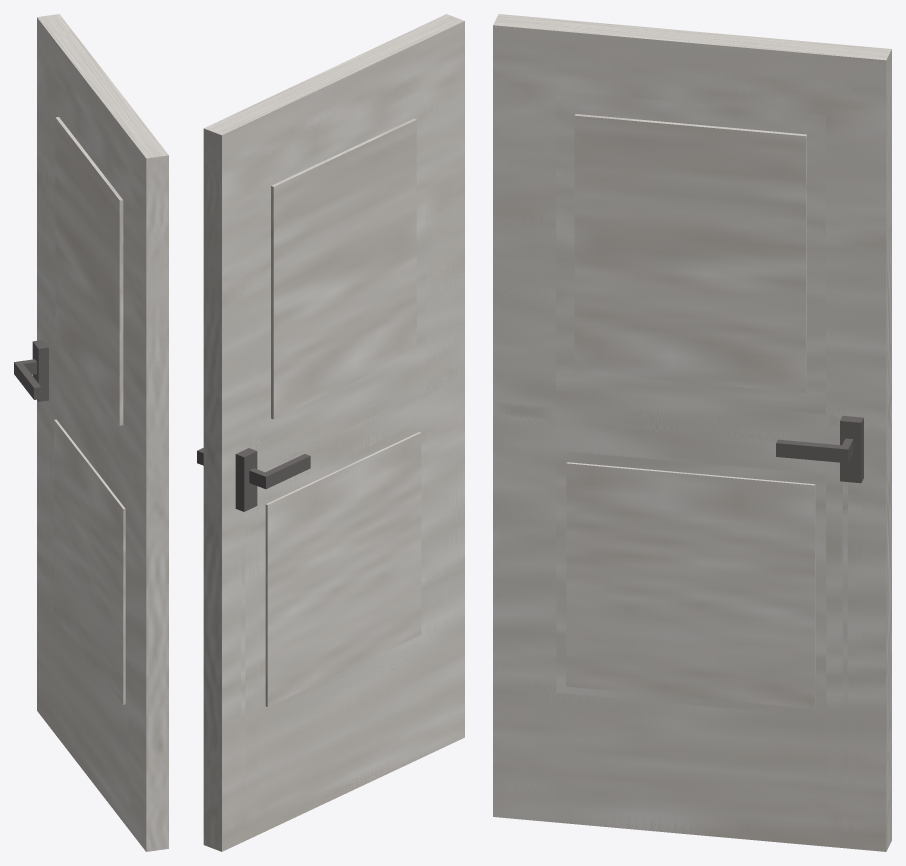
The model's file is Puerta prueba.fbx.
The picture shows the model from 3 angles, left to right: view 1: azimuth 30°, elevation 25°; view 2: azimuth 150°, elevation 25°; view 3: azimuth 270°, elevation 25°; orthographic projection. The views are drawn at different scales.
Parts seen in each view (by area): view 1: Cube; view 2: Cube; view 3: Cube.
Part boxes in pixels (x1=…): Cube: x1=14, y1=14, x2=168, y2=851; Cube: x1=197, y1=14, x2=464, y2=851; Cube: x1=493, y1=14, x2=891, y2=851.
Size of the model in its own units: 93.06 by 581 by 265.
2 materials, 1 textured.
